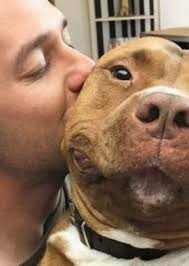Perro Pitbull: (71, 19, 189, 218)
